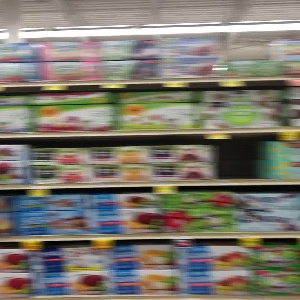void: (217, 133, 268, 181)
